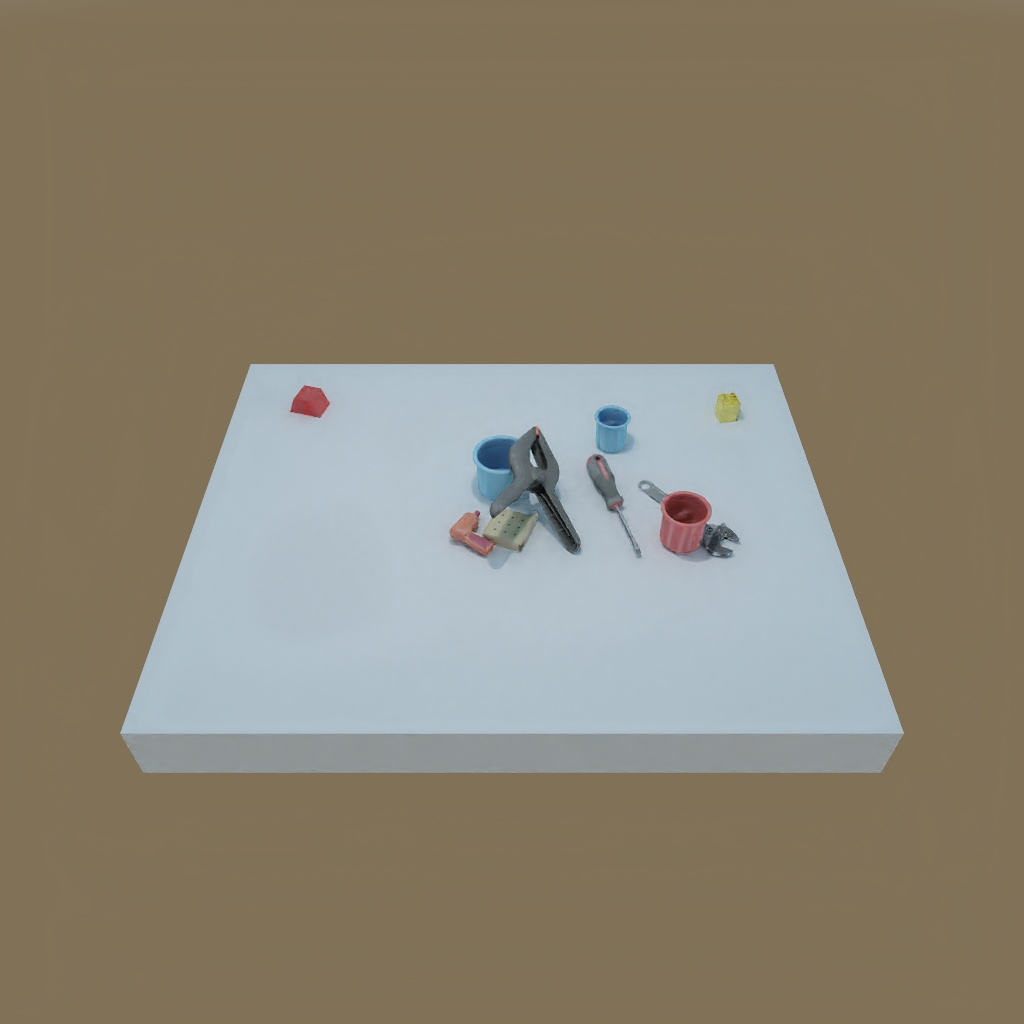nine_hole_peg_test: (483, 501, 537, 553)
